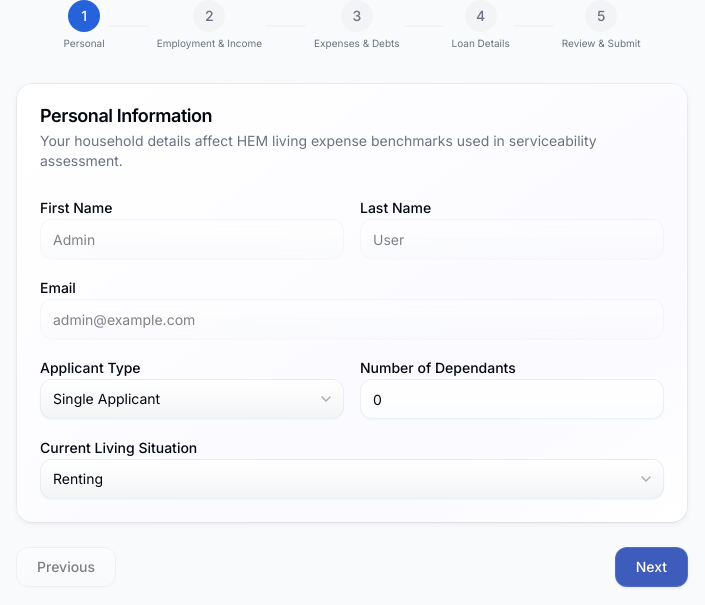
Test: ApplicationForm › navigates from step 1 to step 2 on Next click
Expected: the heading "Personal Information" is shown, [40, 105, 212, 126]
Click the button "Next" at (651, 567), box [615, 547, 688, 587]
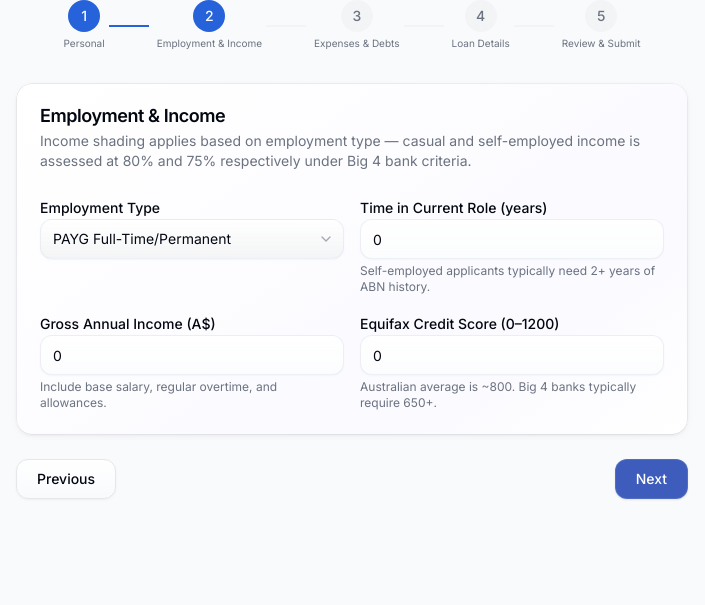
Expected: the heading "Employment & Income" is shown, [40, 105, 225, 126]
